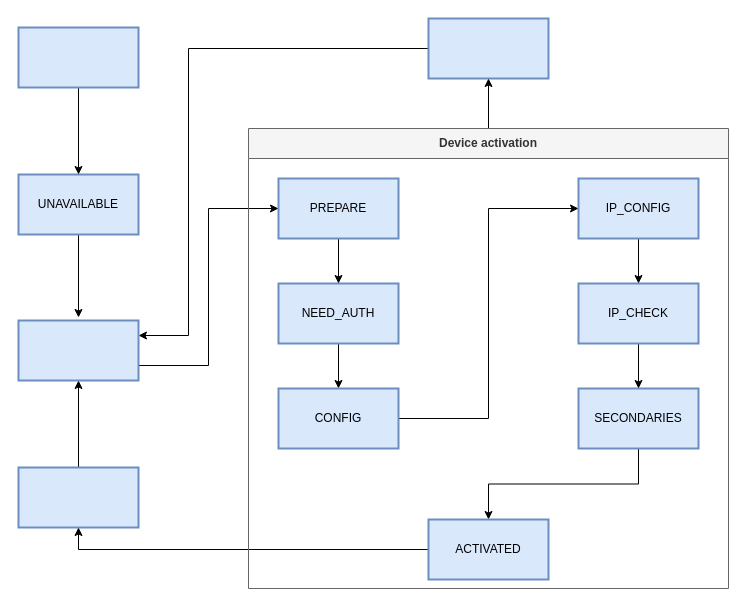
The diagram is 746 pixels wide and 606 high, and some of its shapes have lost their labels. The shapes that lost their labels are listed below. From the top down, each one's centre as x and y in pixels, then its label:
At (78,57): "UNMANAGED".
At (488,48): "FAILED".
At (78,350): "DISCONNECTED".
At (78,497): "DEACTIVATING".
